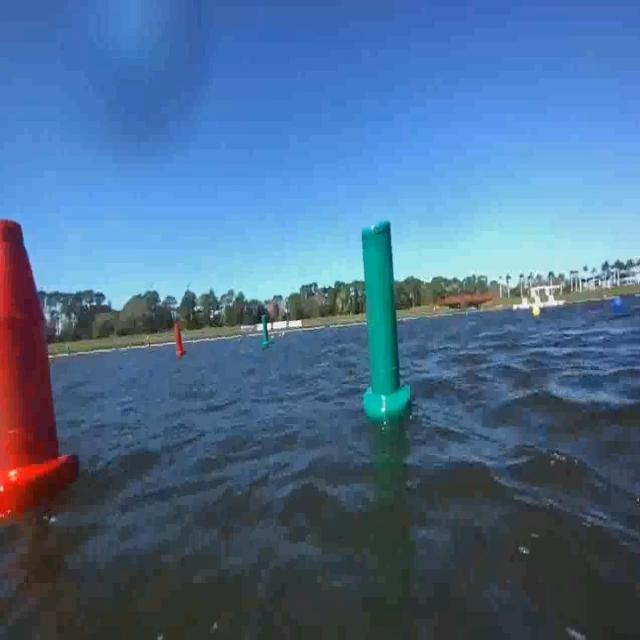blue-buoy: (614, 294, 625, 315)
green-column-buoy: (358, 221, 408, 423), (262, 316, 272, 349)
red-column-buoy: (0, 218, 75, 484), (176, 323, 188, 357)
yellow-buoy: (535, 304, 543, 318)
